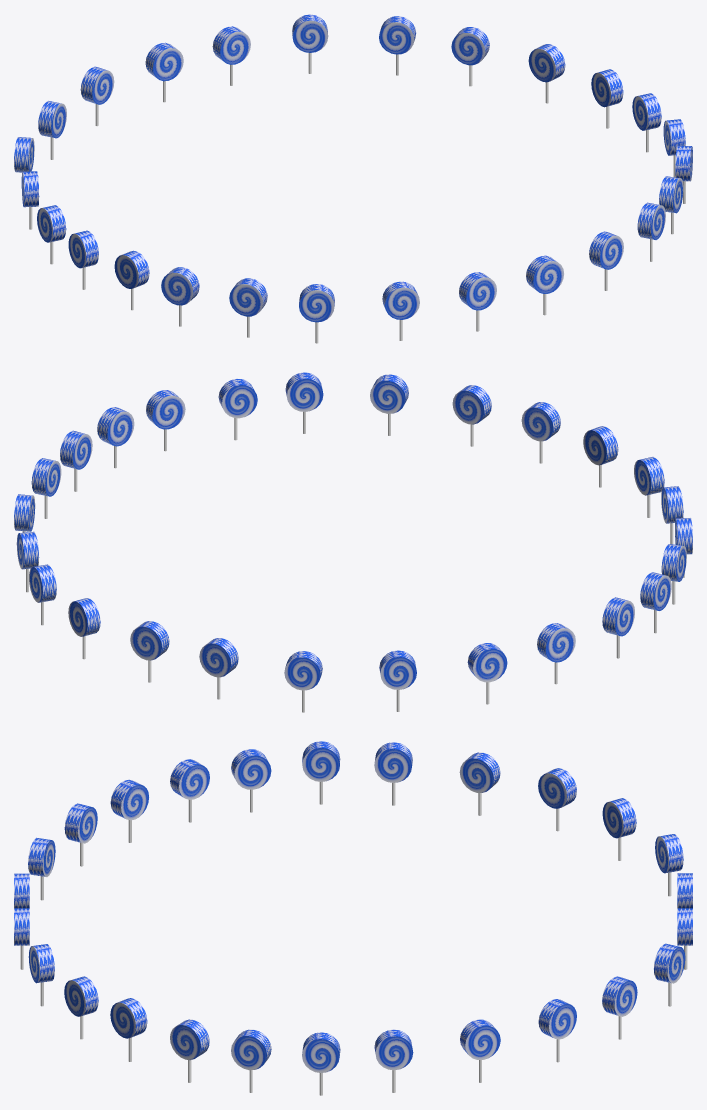
The model's file is BardaPa.obj.
3 renders of one model, top to bottom at view 1: azimuth 30°, elevation 25°; view 2: azimuth 150°, elevation 25°; view 3: azimuth 270°, elevation 25°, orthographic. The views are drawn at different scales.
Parts seen in each view (by area): view 1: polySurface770, polySurface819, polySurface766, polySurface807, polySurface761, polySurface812, polySurface775, pasted__polySurface733, polySurface754, polySurface824, pasted__polySurface824 group88, polySurface805 (+14 smaller); view 2: pasted__polySurface749 group86, pasted__polySurface749 group87, polySurface775, polySurface824, pasted__polySurface733, polySurface749, polySurface780, pasted__polySurface824 group88, polySurface778, pasted__polySurface749 group85, polySurface789, polySurface784 pasted__pasted__pasted__polySurface723 pasted__gr (+14 smaller); view 3: pasted__polySurface749 group83, pasted__polySurface749 group84, polySurface792, polySurface796, polySurface800, pasted__polySurface749 group85, polySurface752, polySurface805, polySurface754, polySurface789, pasted__polySurface749 group86, polySurface807 (+14 smaller).
Boxes of the visible parts, left/top/right/bottom form: polySurface770: left=382, top=281, right=419, bottom=340; polySurface819: left=292, top=14, right=328, bottom=73; polySurface766: left=299, top=284, right=334, bottom=343; polySurface807: left=451, top=27, right=489, bottom=86; polySurface761: left=229, top=278, right=267, bottom=337; polySurface812: left=379, top=16, right=416, bottom=75; polySurface775: left=526, top=255, right=563, bottom=315; pasted__polySurface733: left=459, top=272, right=496, bottom=331; polySurface754: left=161, top=267, right=199, bottom=326; polySurface824: left=212, top=26, right=250, bottom=85; pasted__polySurface824 group88: left=145, top=42, right=183, bottom=102; polySurface805: left=528, top=44, right=565, bottom=103; pasted__polySurface749 group86: left=467, top=643, right=507, bottom=704; pasted__polySurface749 group87: left=379, top=650, right=416, bottom=711; polySurface775: left=452, top=385, right=491, bottom=446; polySurface824: left=130, top=621, right=169, bottom=682; pasted__polySurface733: left=521, top=402, right=560, bottom=463; polySurface749: left=284, top=651, right=322, bottom=712; polySurface780: left=285, top=372, right=323, bottom=433; pasted__polySurface824 group88: left=199, top=638, right=238, bottom=699; polySurface778: left=370, top=374, right=408, bottom=435; pasted__polySurface749 group85: left=537, top=623, right=575, bottom=684; polySurface789: left=146, top=390, right=185, bottom=451; polySurface784 pasted__pasted__pasted__polySurface723 pasted__gr: left=218, top=378, right=257, bottom=418; pasted__polySurface749 group83: left=302, top=741, right=340, bottom=804; pasted__polySurface749 group84: left=374, top=742, right=412, bottom=805; polySurface792: left=231, top=1029, right=271, bottom=1092; polySurface796: left=302, top=1032, right=340, bottom=1095; polySurface800: left=374, top=1029, right=413, bottom=1092; pasted__polySurface749 group85: left=459, top=752, right=500, bottom=815; polySurface752: left=231, top=749, right=271, bottom=812; polySurface805: left=460, top=1019, right=500, bottom=1082; polySurface754: left=170, top=759, right=209, bottom=822; polySurface789: left=170, top=1019, right=209, bottom=1082; pasted__polySurface749 group86: left=538, top=768, right=576, bottom=831; polySurface807: left=538, top=999, right=576, bottom=1062.
Bounding box in the file's own units: 17.15 × 1.59 × 16.51.
Materials: 52 (52 with a texture image).
